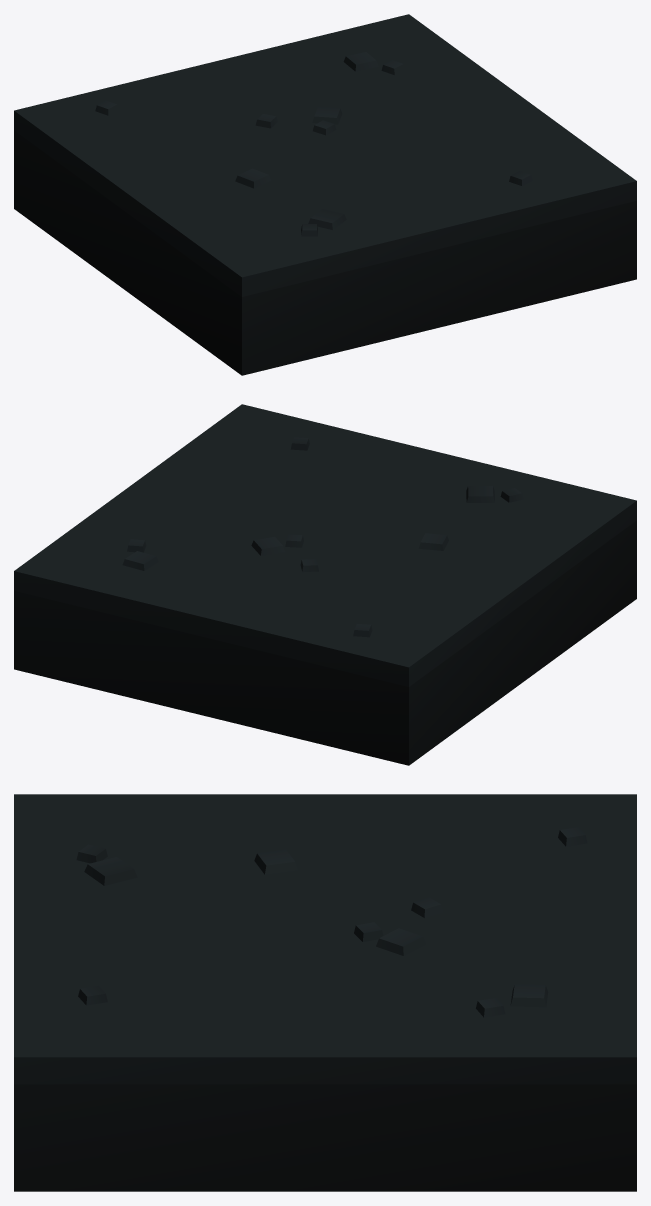
File: ASFALTO SIMPLE.fbx
The picture shows the model from 3 angles, top to bottom: view 1: azimuth 30°, elevation 25°; view 2: azimuth 150°, elevation 25°; view 3: azimuth 270°, elevation 25°; orthographic projection. The views are drawn at different scales.
Parts seen in each view (by area): view 1: floor_dirt.001; view 2: floor_dirt.001; view 3: floor_dirt.001.
Part boxes in pixels (x1,y1,x2,y2): floor_dirt.001: (14,14,636,375); floor_dirt.001: (14,404,636,765); floor_dirt.001: (14,794,636,1191).
Bounding box in the file's own units: 900 × 900 × 227.
Materials: 1 (1 with a texture image).
